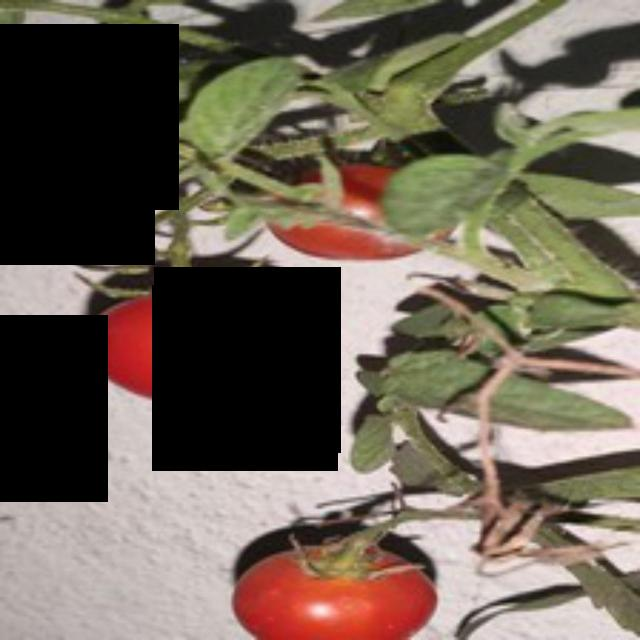tomato: (66, 277, 331, 413), (217, 531, 457, 637)
